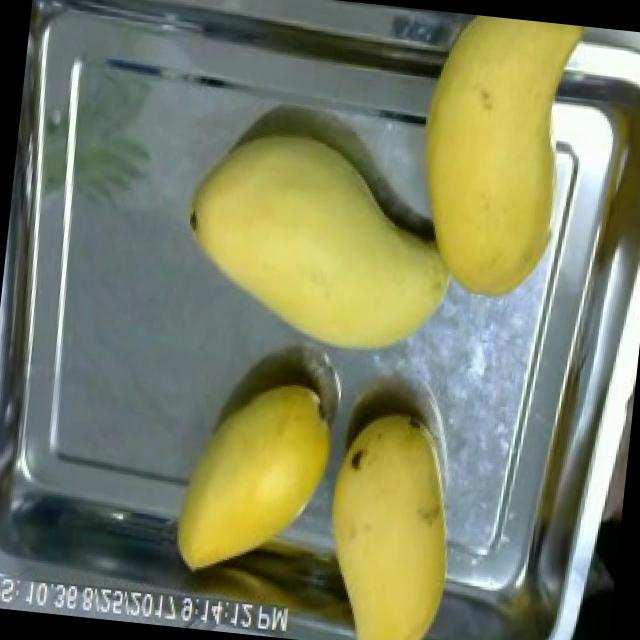fruit: (164, 112, 486, 380), (390, 9, 606, 320), (296, 390, 495, 640), (164, 356, 351, 596)
